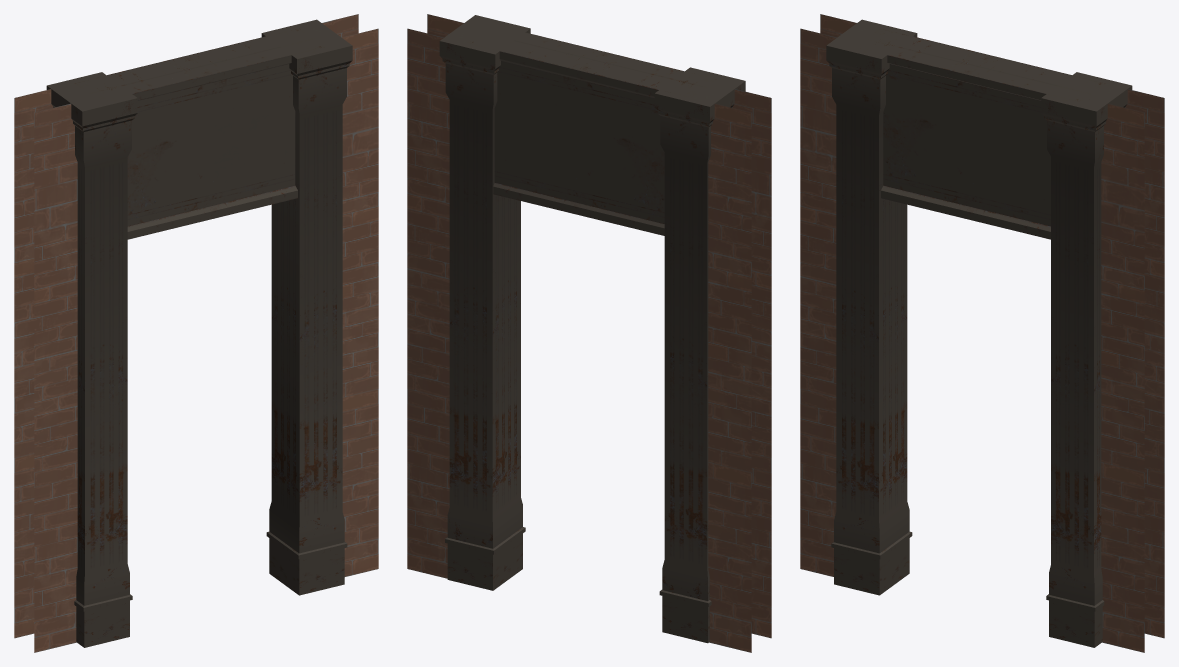
File: DoorFrame_MetalBrick.gltf
3 renders of one model, left to right at view 1: azimuth 30°, elevation 25°; view 2: azimuth 150°, elevation 25°; view 3: azimuth 330°, elevation 25°, orthographic.
Visible parts, largest first — view 1: DoorFrame_MetalBrick; view 2: DoorFrame_MetalBrick; view 3: DoorFrame_MetalBrick.
Boxes of the visible parts, bbox=[...] form: DoorFrame_MetalBrick: bbox=[14, 14, 378, 652]; DoorFrame_MetalBrick: bbox=[407, 14, 771, 652]; DoorFrame_MetalBrick: bbox=[800, 14, 1164, 652].
Bounding box in the file's own units: 2 × 3 × 0.3581.
Materials: 3 (3 with a texture image).
